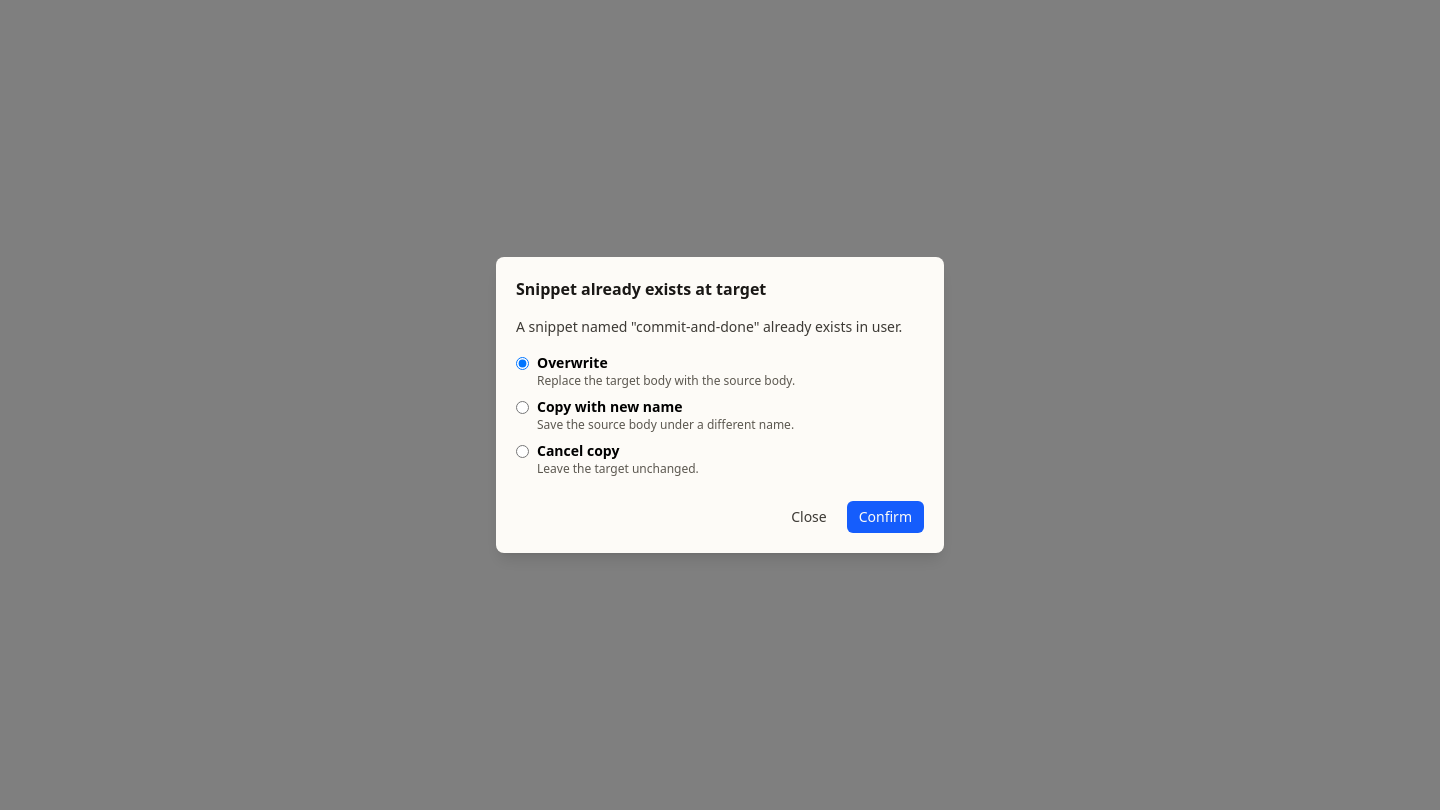
Test case: SnippetCopyConflictDialog › flags an unchanged rename name with the unchanged error
Click the radio button with test id "snippet-conflict-rename" at (522, 408), box left=516, top=401, right=529, bottom=414
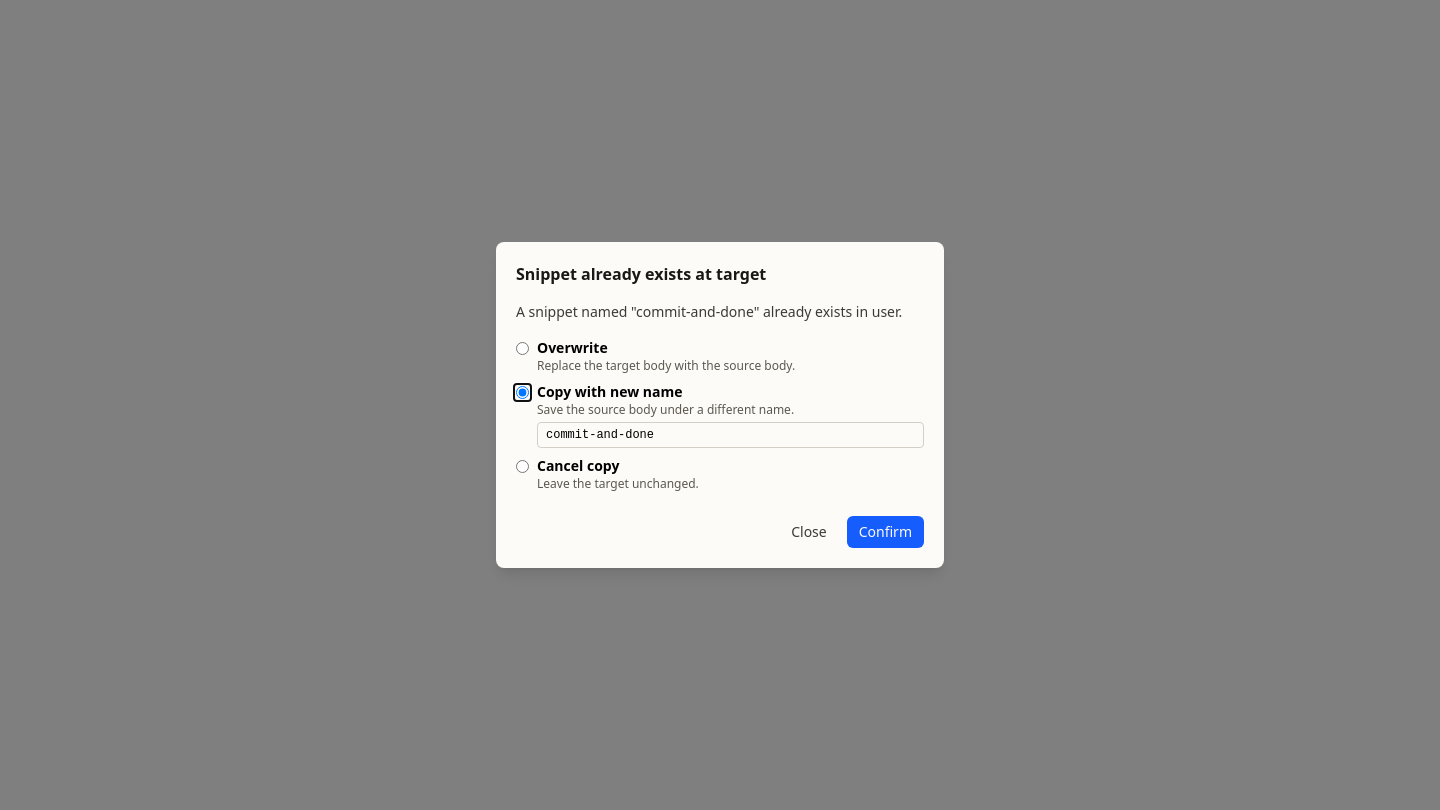
# The default rename name equals the original — submitting must error.
Click the button with test id "snippet-conflict-submit" at (885, 532), box left=847, top=516, right=924, bottom=548
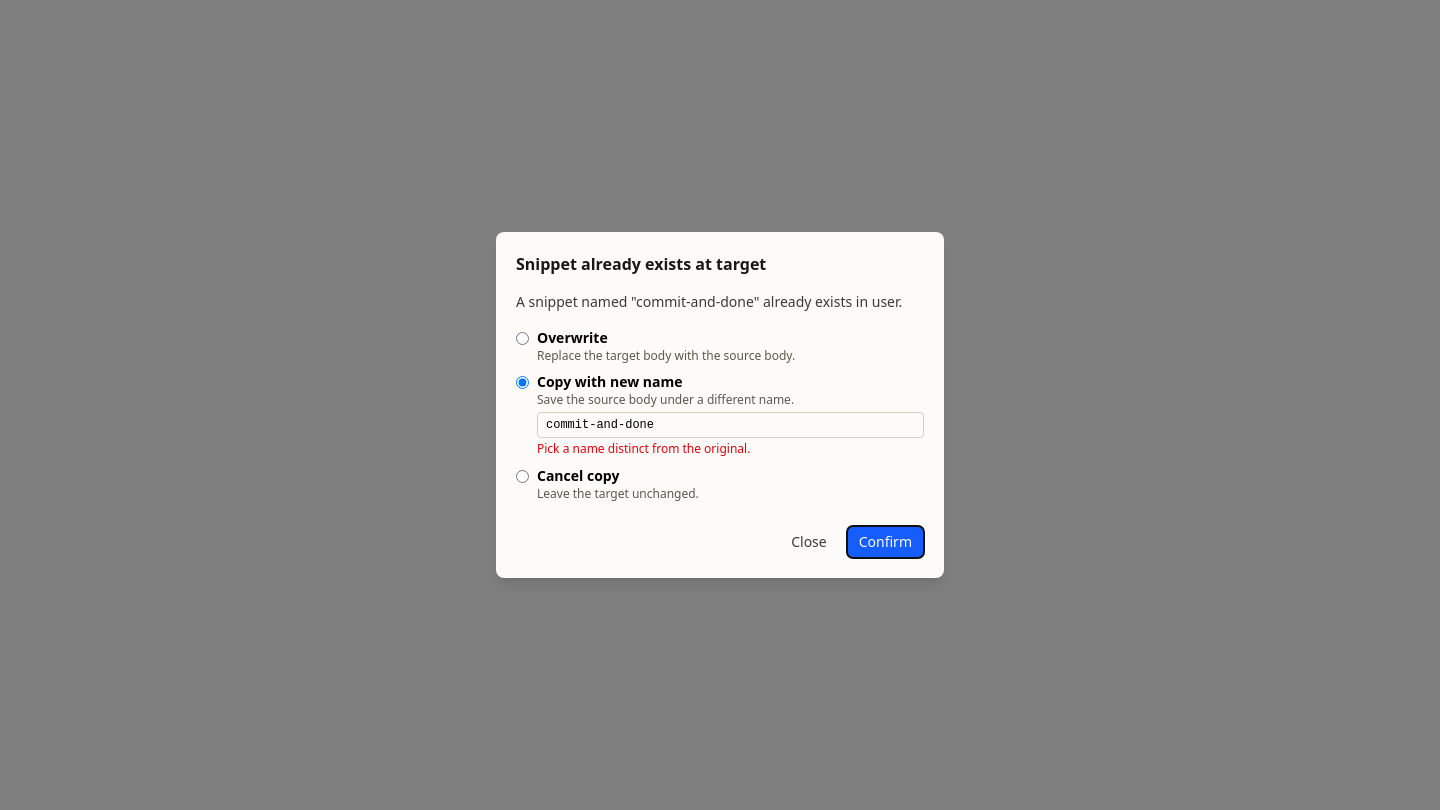
Expected: the text with test id "snippet-conflict-rename-error" shows "distinct", left=537, top=440, right=750, bottom=457
